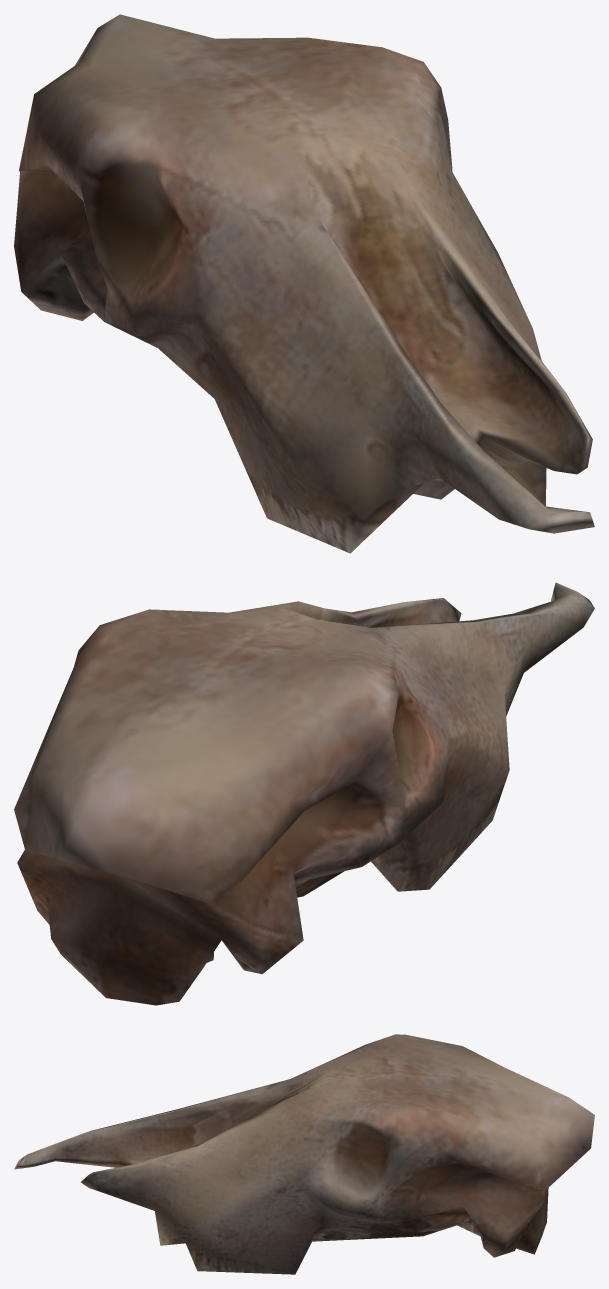
The model's file is skeleton_animal_skull_02.fbx.
3 views of the same model, one above another, from view 1: azimuth 30°, elevation 25°; view 2: azimuth 150°, elevation 25°; view 3: azimuth 270°, elevation 25° (orthographic). The views are drawn at different scales.
Parts seen in each view (by area): view 1: skeleton_animal_skull_02; view 2: skeleton_animal_skull_02; view 3: skeleton_animal_skull_02.
Boxes of the visible parts, bbox=[...] form: skeleton_animal_skull_02: bbox=[14, 14, 594, 553]; skeleton_animal_skull_02: bbox=[14, 582, 594, 1005]; skeleton_animal_skull_02: bbox=[14, 1034, 594, 1274].
Bounding box in the file's own units: 21.36 × 18.99 × 54.2.
